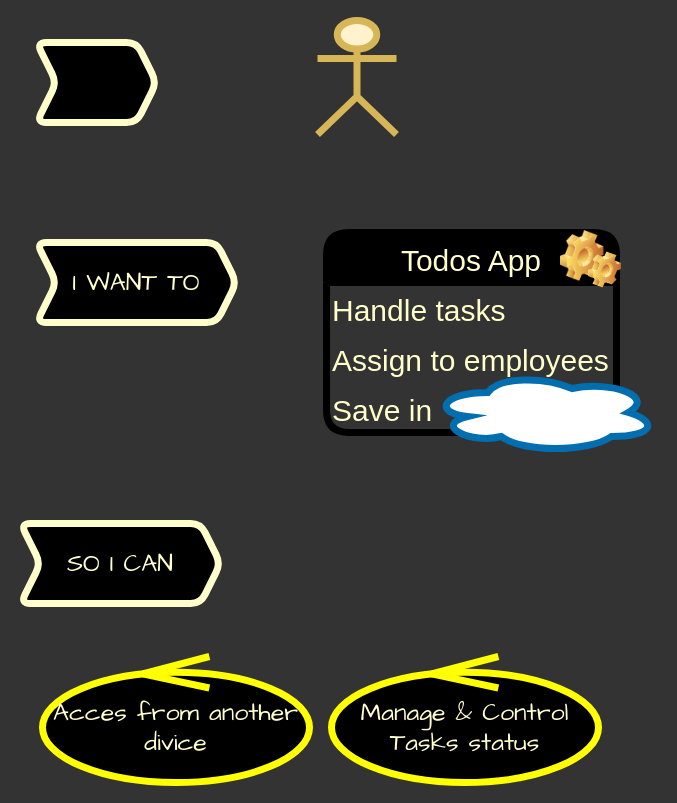
Image size: 677x803. Some labels were removed from this diagram. Each missing label, with the centre of its shape:
AS: the point at 96,82
cloud: the point at 544,412
USER: the point at 357,77
